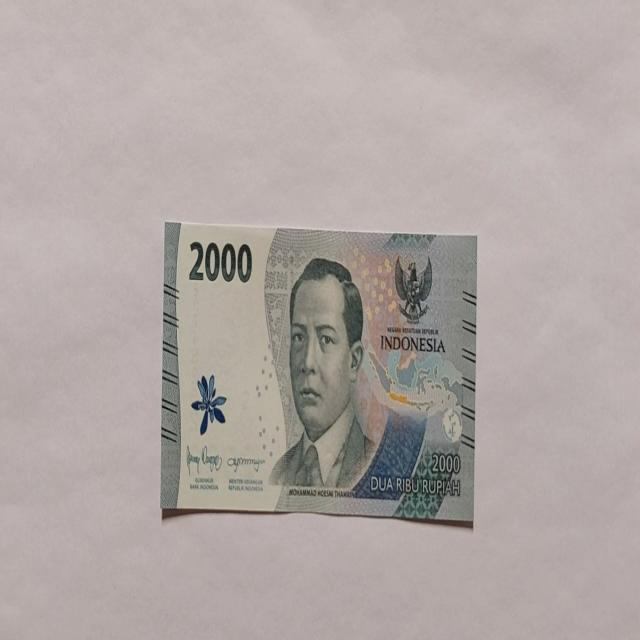dua ribu rupiah: (160, 220, 477, 522), (268, 256, 378, 492)
